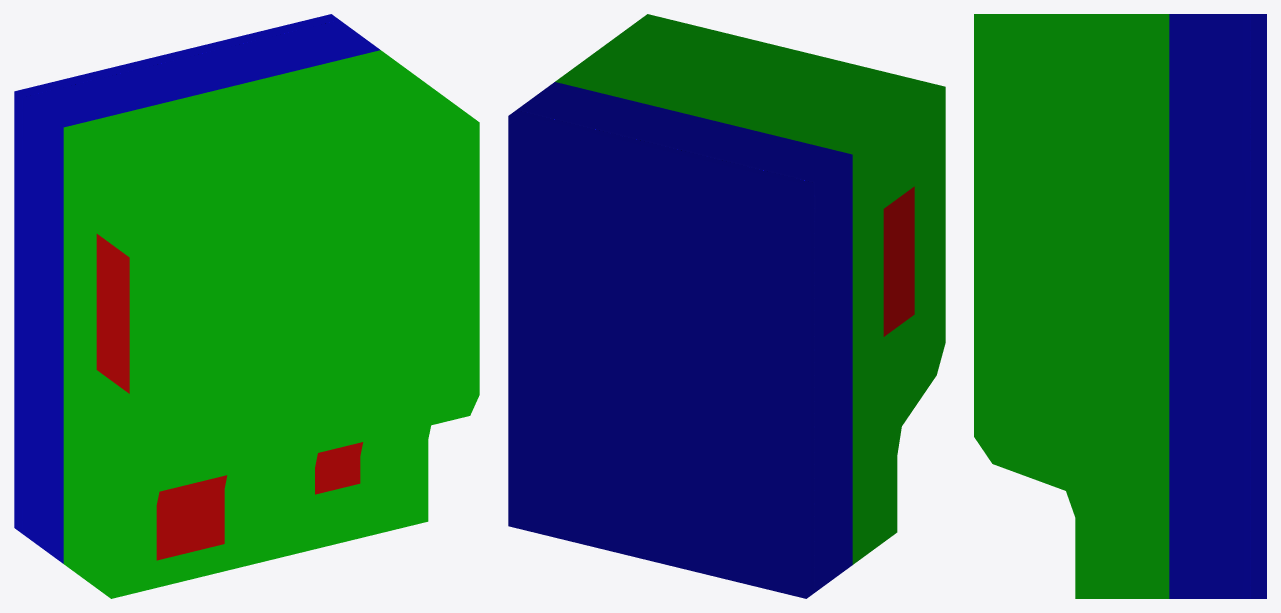
The model's file is Ch_wipeMich-l_B_body02.fbx.
3 renders of one model, left to right at view 1: azimuth 30°, elevation 25°; view 2: azimuth 150°, elevation 25°; view 3: azimuth 270°, elevation 25°, orthographic. The views are drawn at different scales.
Parts seen in each view (by area): view 1: ch_wipeMichelA_body02; view 2: ch_wipeMichelA_body02; view 3: ch_wipeMichelA_body02.
Part boxes in pixels (bbox=[...]): ch_wipeMichelA_body02: bbox=[14, 14, 479, 598]; ch_wipeMichelA_body02: bbox=[508, 14, 945, 598]; ch_wipeMichelA_body02: bbox=[974, 14, 1266, 598].
Bounding box in the file's own units: 45.11 × 59.39 × 36.47.
